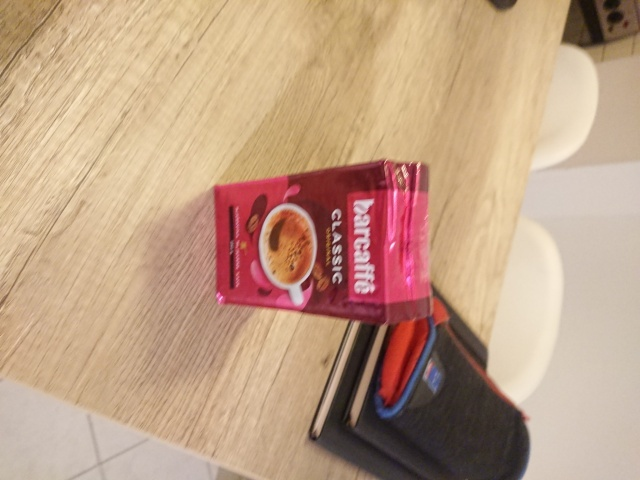Barcaffe Classic Original 225g: (210, 154, 435, 329)
